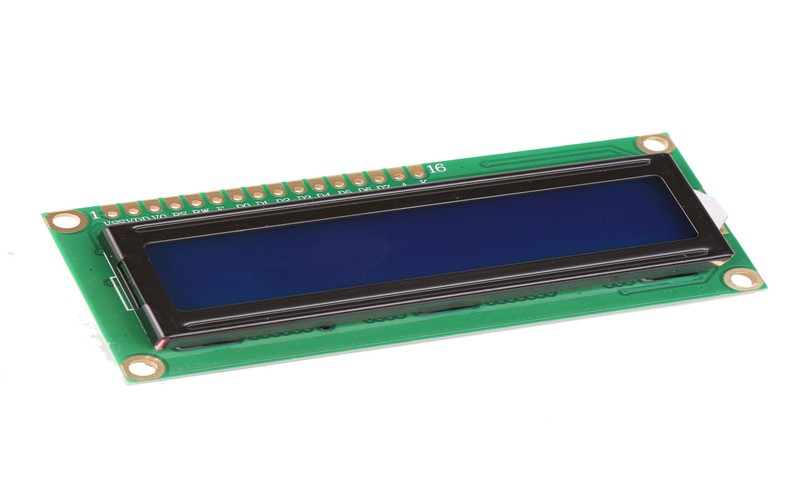LCD: (37, 114, 773, 403)
